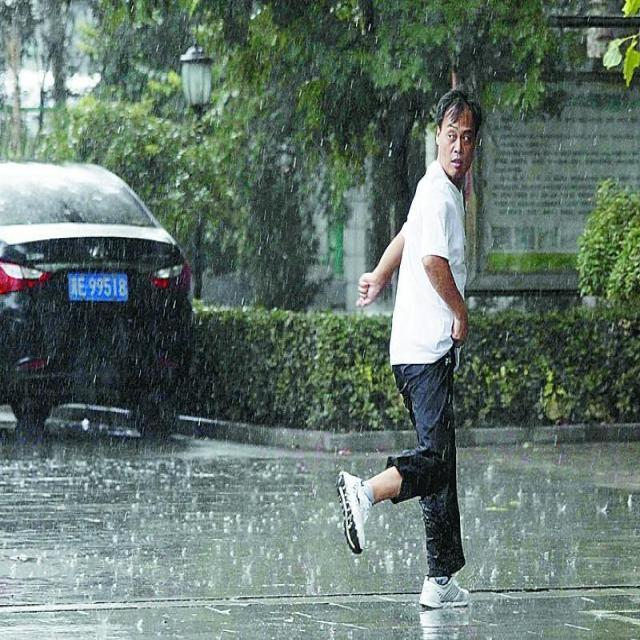car: (0, 157, 190, 433)
